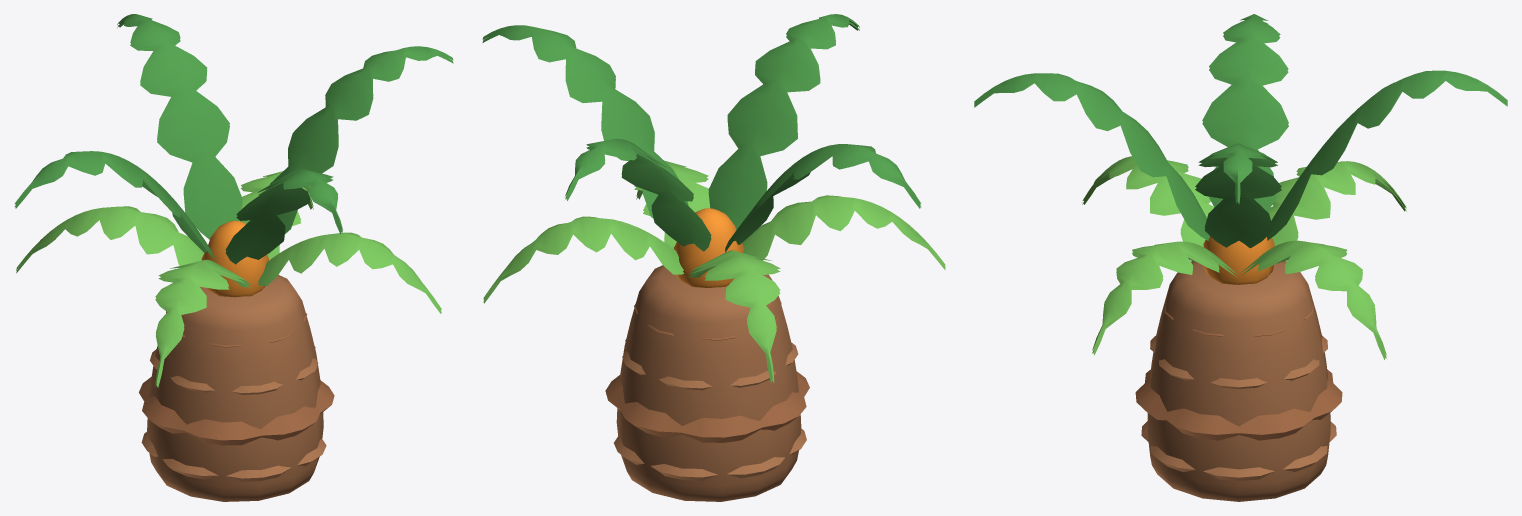
The model's file is prop_cycad.glb.
3 views of the same model, side by side, from view 1: azimuth 30°, elevation 25°; view 2: azimuth 150°, elevation 25°; view 3: azimuth 270°, elevation 25° (orthographic). The views are drawn at different scales.
Visible parts, largest first — view 1: prop_cycad; view 2: prop_cycad; view 3: prop_cycad.
Boxes of the visible parts, x1,y1,x2,y2 form: prop_cycad: [15, 14, 453, 501]; prop_cycad: [482, 14, 945, 501]; prop_cycad: [974, 14, 1507, 501].
Bounding box in the file's own units: 1.81 × 1.55 × 1.84.
